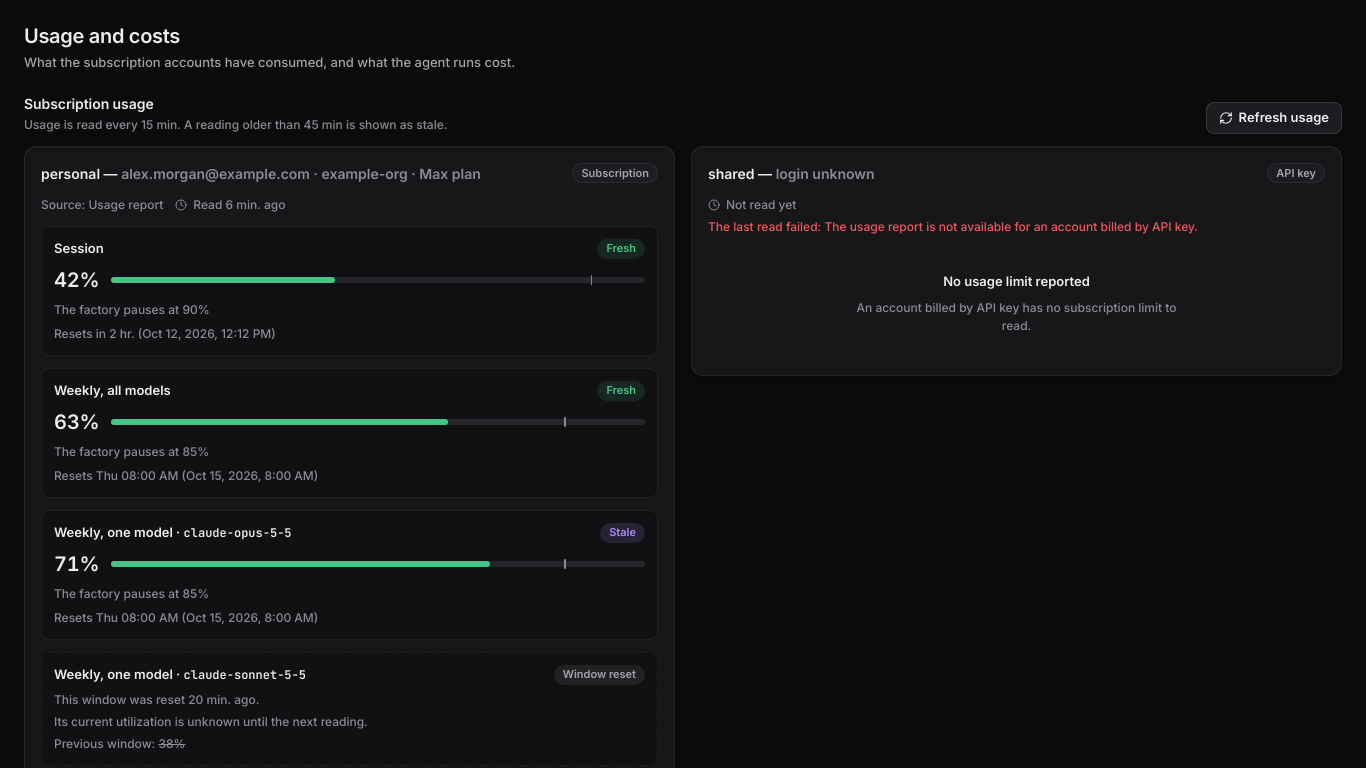
Test: usage.refresh › shows what the factory did, and its refusal
The width and height of the screenshot is (1366, 768).
Expected: the heading "Usage and costs" is shown, [24,24,180,48]
Click the button "Refresh usage".
click(1274, 118)  # box [1206,102,1342,134]
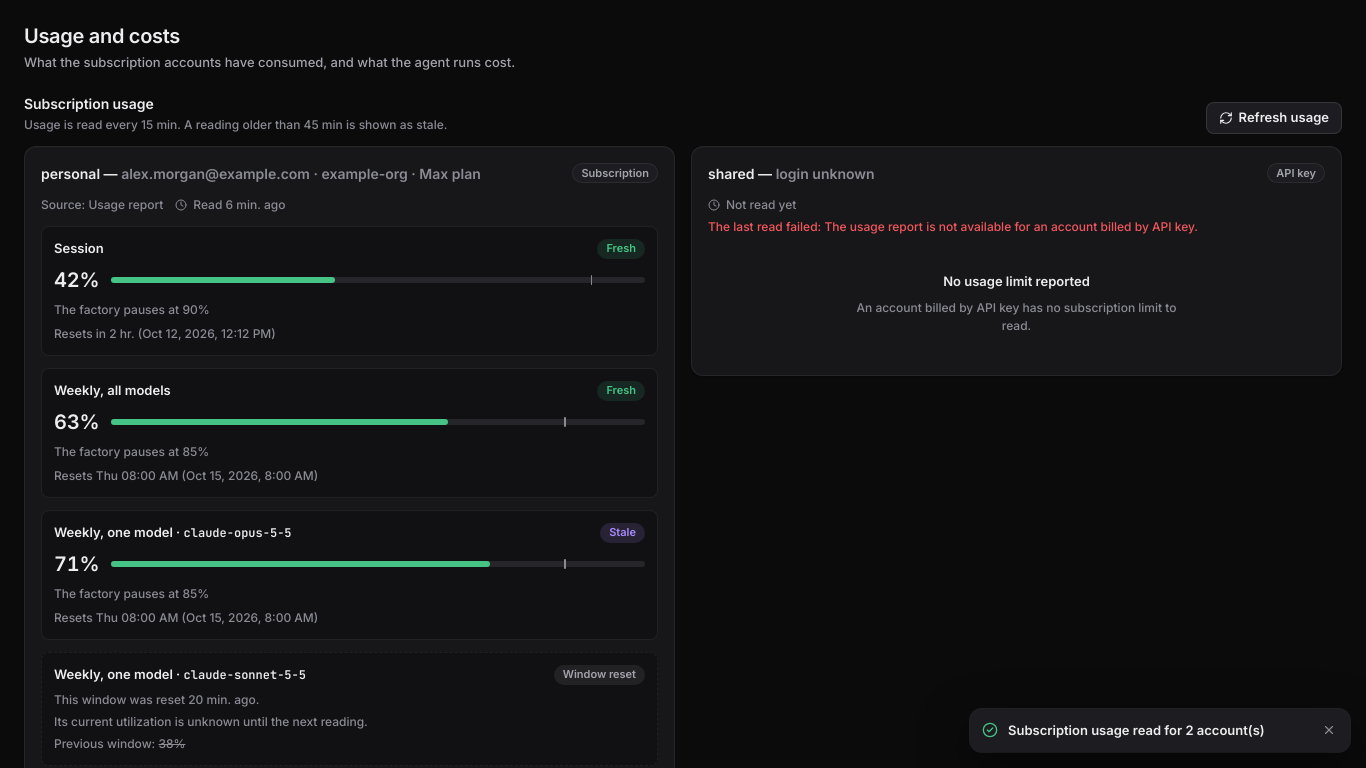
Expected: the text "Subscription usage read for 2 account(s)" is shown, [1008,722,1265,738]
Click the button "Refresh usage".
click(1274, 118)  # box [1206,102,1342,134]
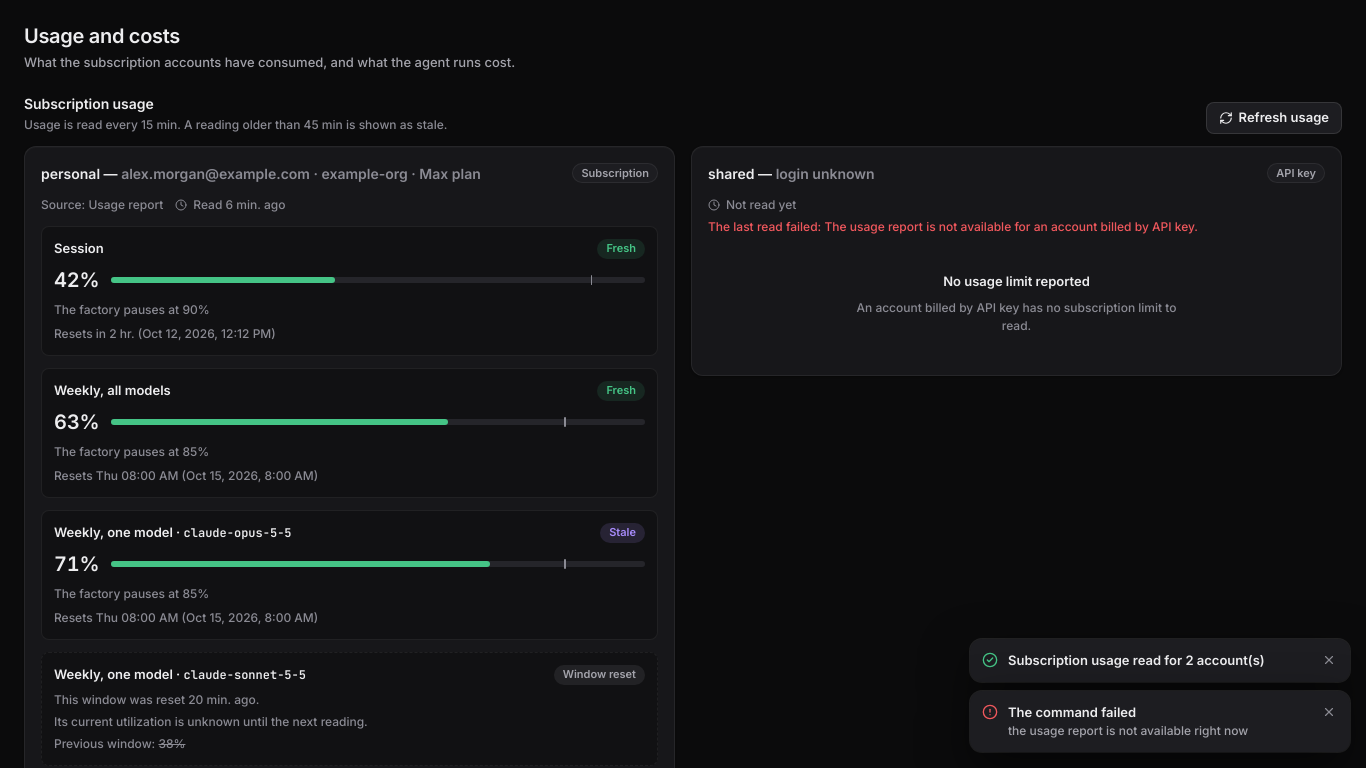
Expected: the text "the usage report is not available right now" is shown, [1008,723,1248,738]
